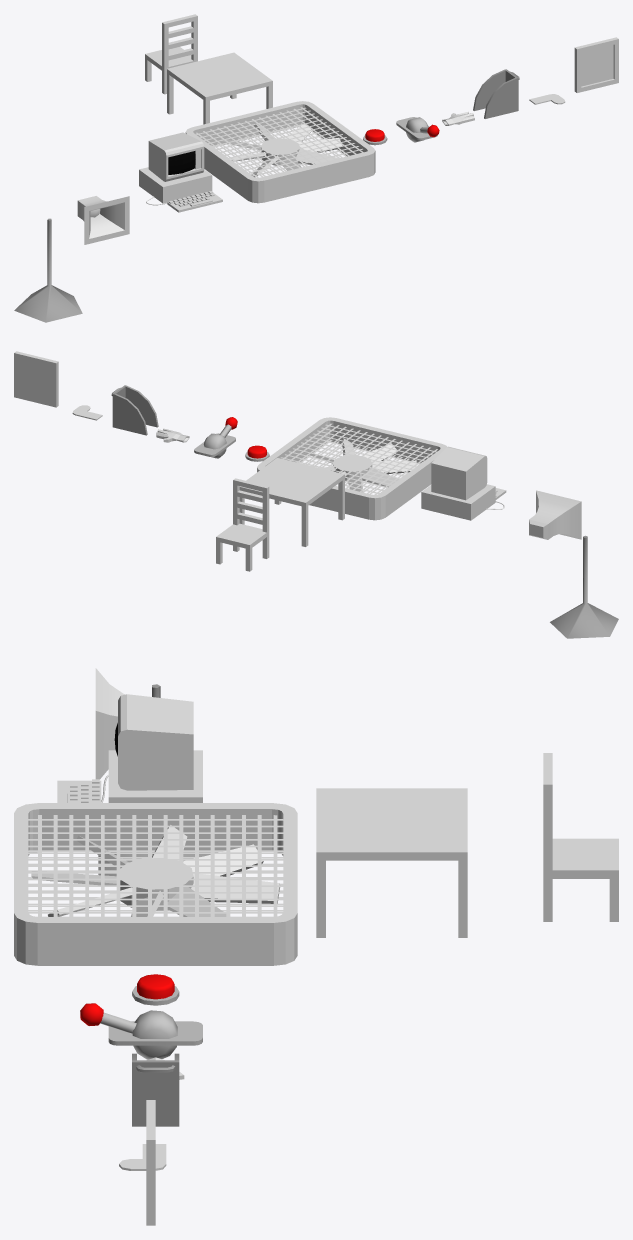
The model's file is CommsDownAssets.fbx.
3 renders of one model, top to bottom at view 1: azimuth 30°, elevation 25°; view 2: azimuth 150°, elevation 25°; view 3: azimuth 270°, elevation 25°, orthographic. The views are drawn at different scales.
Parts seen in each view (by area): view 1: Big Fan, DOS Terminal, Table, Vent, PA Speaker, Chair, Light, Chute, Big Fan Blades, Big Fan Center, Lever; view 2: Big Fan, DOS Terminal, Table, Chair, Vent, PA Speaker, Light, Chute, Big Fan Blades, Lever, Big Fan Center; view 3: Big Fan, Table, DOS Terminal, Big Fan Blades, Chair, Chute, Lever, PA Speaker, Big Fan Center, Lever Base, Vent, Button.
Boxes of the visible parts, left/top/right/bottom form: Big Fan: left=185, top=101, right=375, bottom=203; DOS Terminal: left=139, top=132, right=222, bottom=212; Table: left=167, top=52, right=272, bottom=124; Vent: left=574, top=37, right=618, bottom=92; PA Speaker: left=77, top=196, right=129, bottom=244; Chair: left=145, top=14, right=197, bottom=94; Light: left=14, top=218, right=82, bottom=322; Chute: left=473, top=69, right=519, bottom=118; Big Fan Blades: left=220, top=124, right=342, bottom=177; Big Fan Center: left=261, top=138, right=299, bottom=165; Lever: left=406, top=117, right=439, bottom=142; Big Fan: left=257, top=417, right=447, bottom=520; DOS Terminal: left=421, top=446, right=506, bottom=520; Table: left=239, top=458, right=344, bottom=546; Chair: left=216, top=478, right=269, bottom=571; Vent: left=14, top=351, right=58, bottom=407; PA Speaker: left=529, top=490, right=581, bottom=539; Light: left=550, top=535, right=618, bottom=638; Chute: left=111, top=385, right=158, bottom=435; Big Fan Blades: left=300, top=438, right=416, bottom=492; Lever: left=203, top=417, right=237, bottom=458; Big Fan Center: left=333, top=455, right=372, bottom=480; Big Fan: left=14, top=803, right=297, bottom=965; Table: left=316, top=788, right=467, bottom=937; DOS Terminal: left=57, top=694, right=202, bottom=802; Big Fan Blades: left=31, top=825, right=280, bottom=916; Chair: left=543, top=753, right=618, bottom=921; Chute: left=132, top=1053, right=179, bottom=1126; Lever: left=80, top=1003, right=177, bottom=1059; PA Speaker: left=95, top=668, right=124, bottom=779; Big Fan Center: left=120, top=858, right=193, bottom=910; Lever Base: left=108, top=1021, right=202, bottom=1045; Vent: left=146, top=1100, right=155, bottom=1225; Button: left=132, top=974, right=179, bottom=1005.
Bounding box in the file's own units: 2843 × 720 × 1280.
